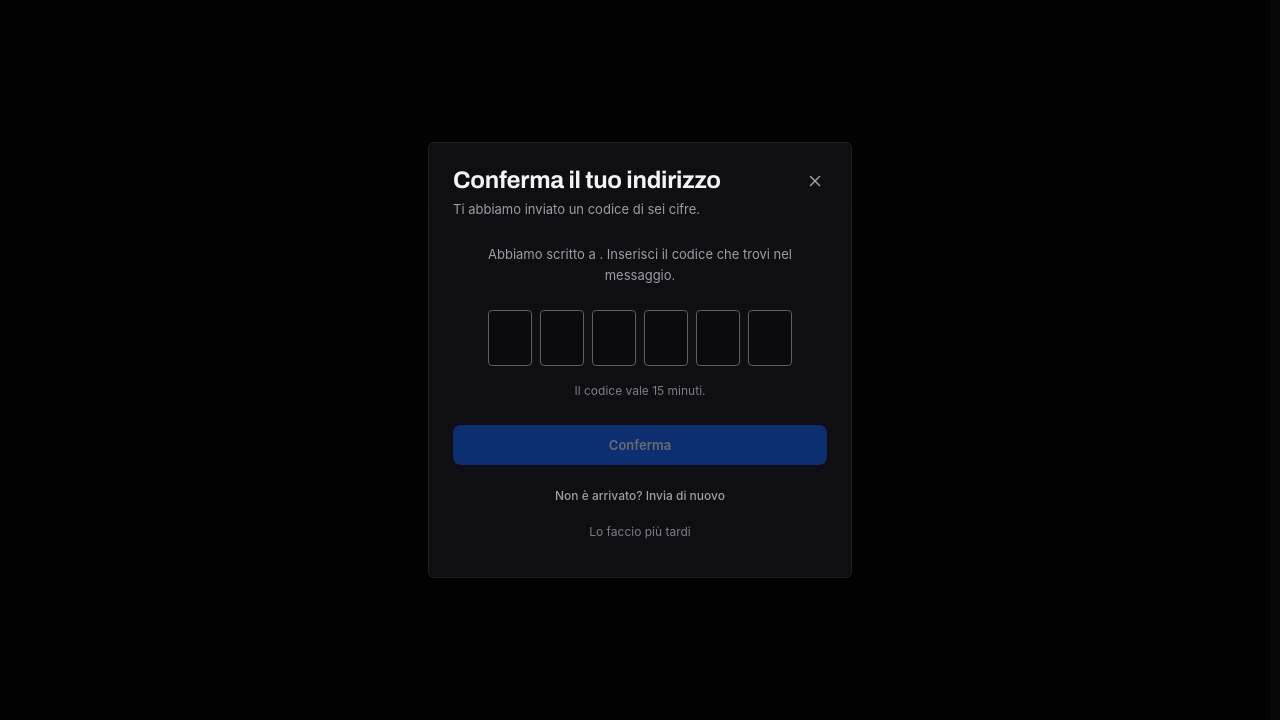
Test: la conferma › un codice errato lascia le cifre dove sono
The image size is (1280, 720).
Click the field named "Cifra 1" at (510, 338), box [488,310,532,366]
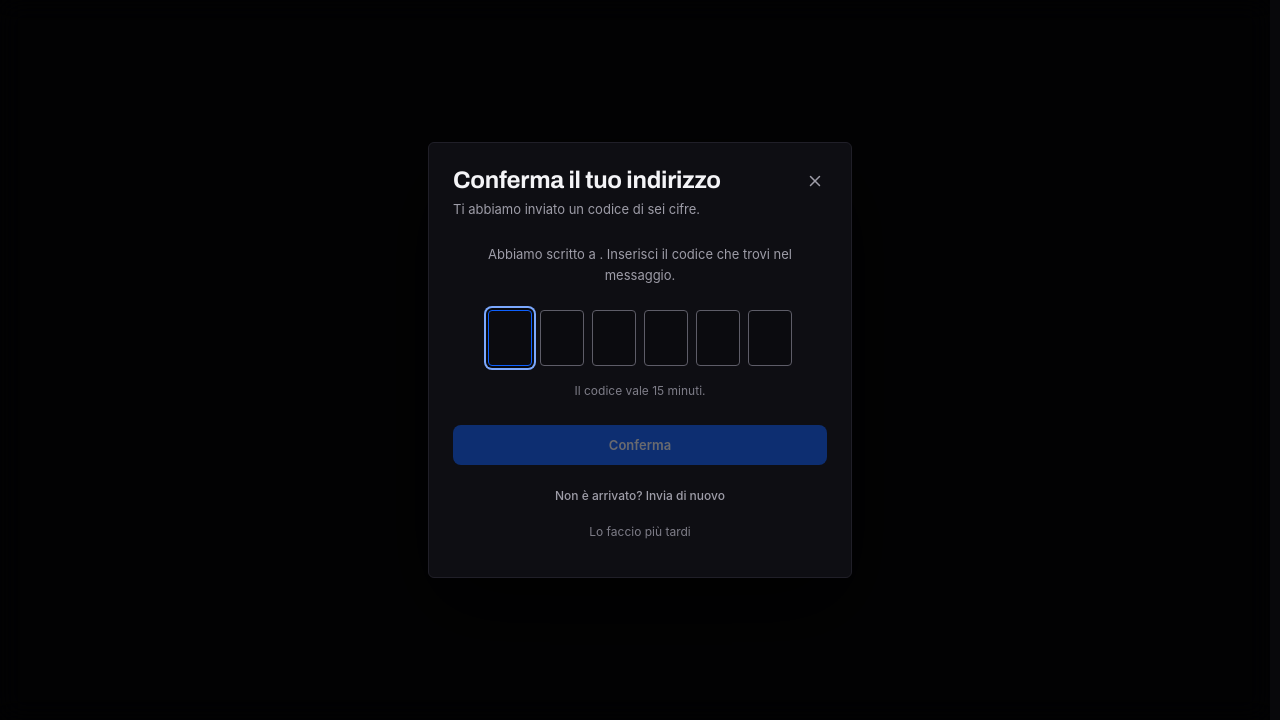
Type keys "111111"
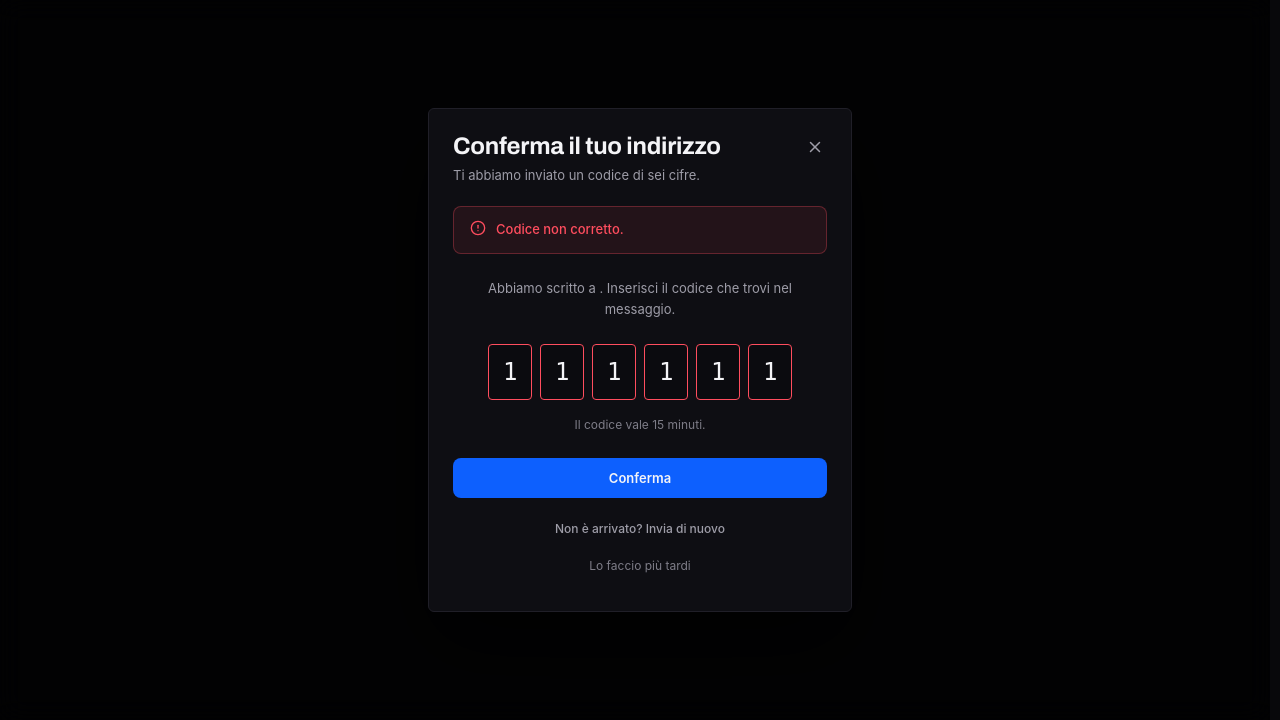
Now the text "Codice non corretto." is shown, box [453,206,827,254]
